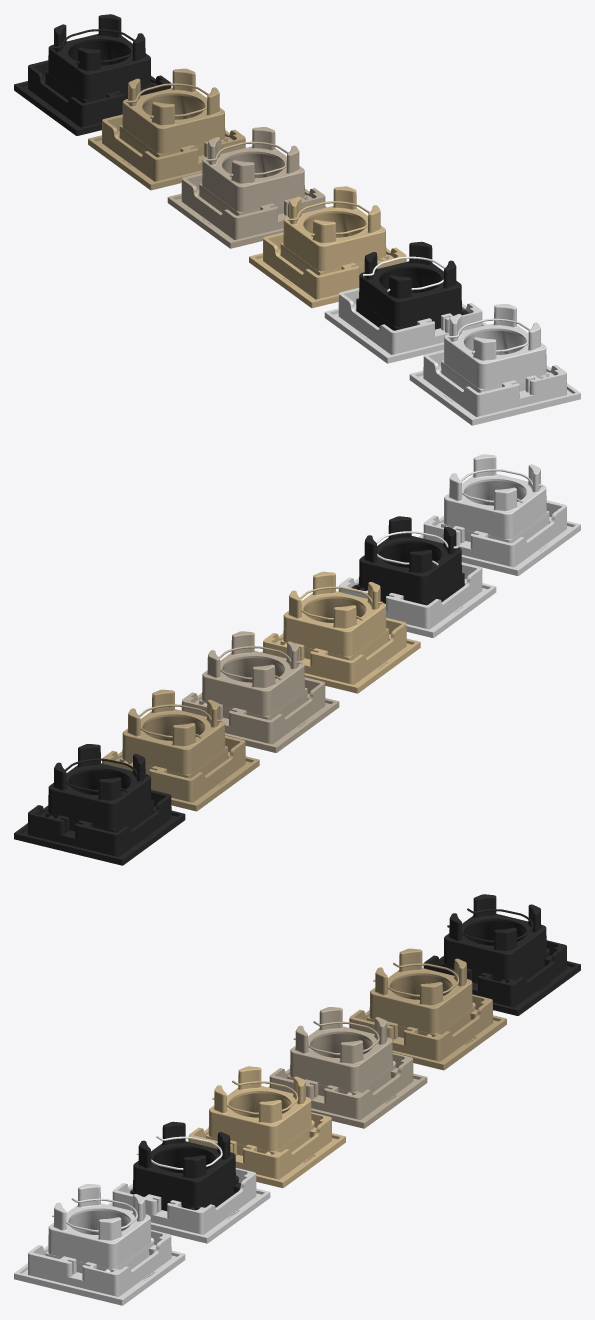
Rendered from PRO11Embutido.glb.
3 views of the same model, one above another, from view 1: azimuth 30°, elevation 25°; view 2: azimuth 150°, elevation 25°; view 3: azimuth 330°, elevation 25° (orthographic).
Visible parts, largest first — view 1: 3DGeom-1 (×6), 3DGeom-3 (×6); view 2: 3DGeom-1 (×6), 3DGeom-3 (×6); view 3: 3DGeom-1 (×6), 3DGeom-3 (×6).
Part boxes in pixels (bbox=[...]): 3DGeom-1 (×6): bbox=[45, 14, 554, 392]; 3DGeom-3 (×6): bbox=[14, 60, 580, 425]; 3DGeom-1 (×6): bbox=[40, 454, 549, 832]; 3DGeom-3 (×6): bbox=[14, 500, 580, 865]; 3DGeom-1 (×6): bbox=[45, 894, 551, 1273]; 3DGeom-3 (×6): bbox=[14, 940, 580, 1305].
Size of the model in its own units: 0.06 by 0.035 by 0.4365.
7 materials, 2 textured.
